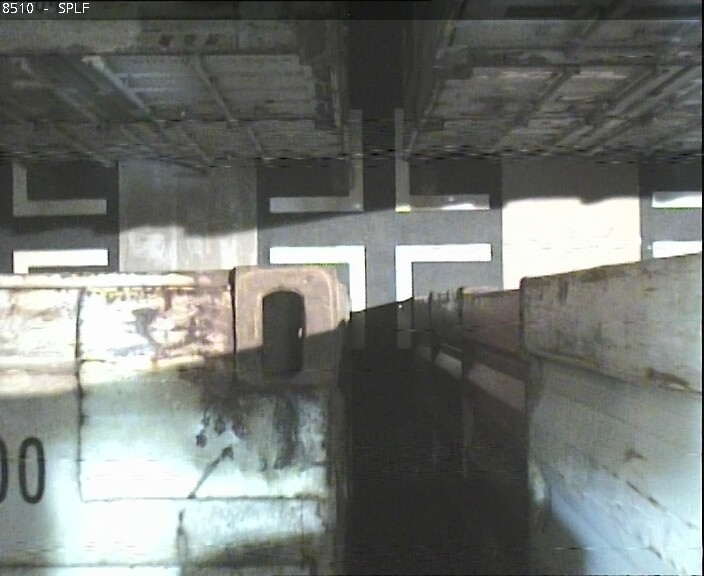groundmarker_1: (270, 242, 492, 347), (266, 110, 489, 214), (10, 161, 106, 275)
